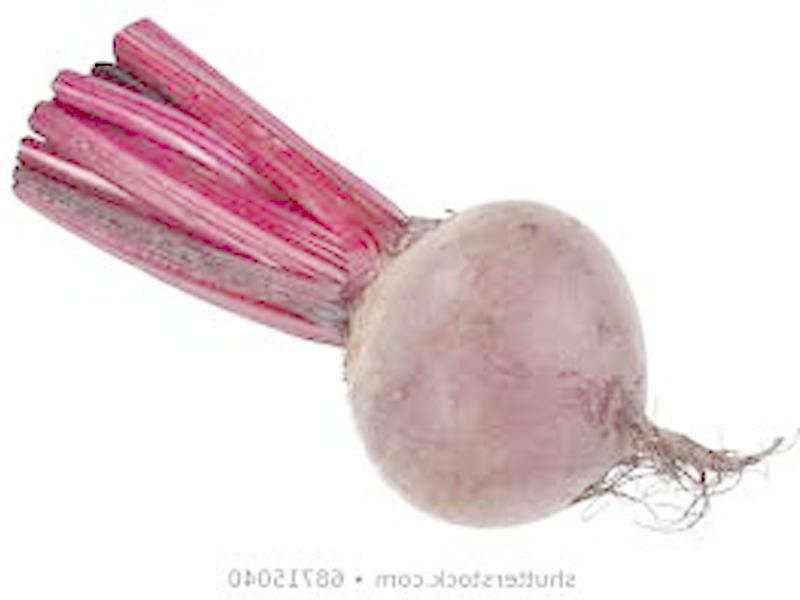Beet: (11, 22, 784, 525)
